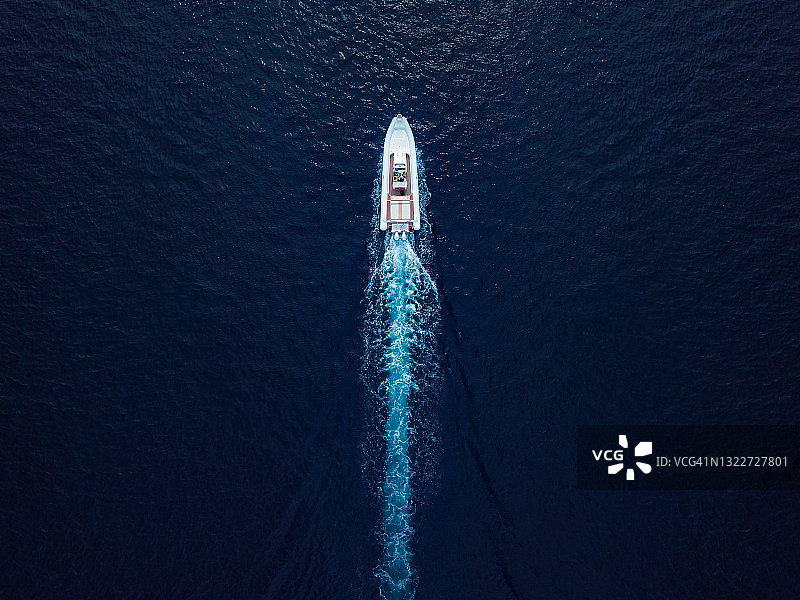ship: (357, 103, 443, 249)
